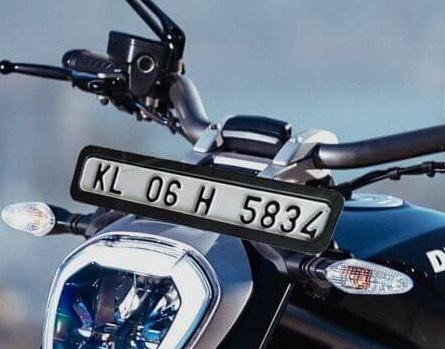number_plate: (64, 137, 355, 249)
